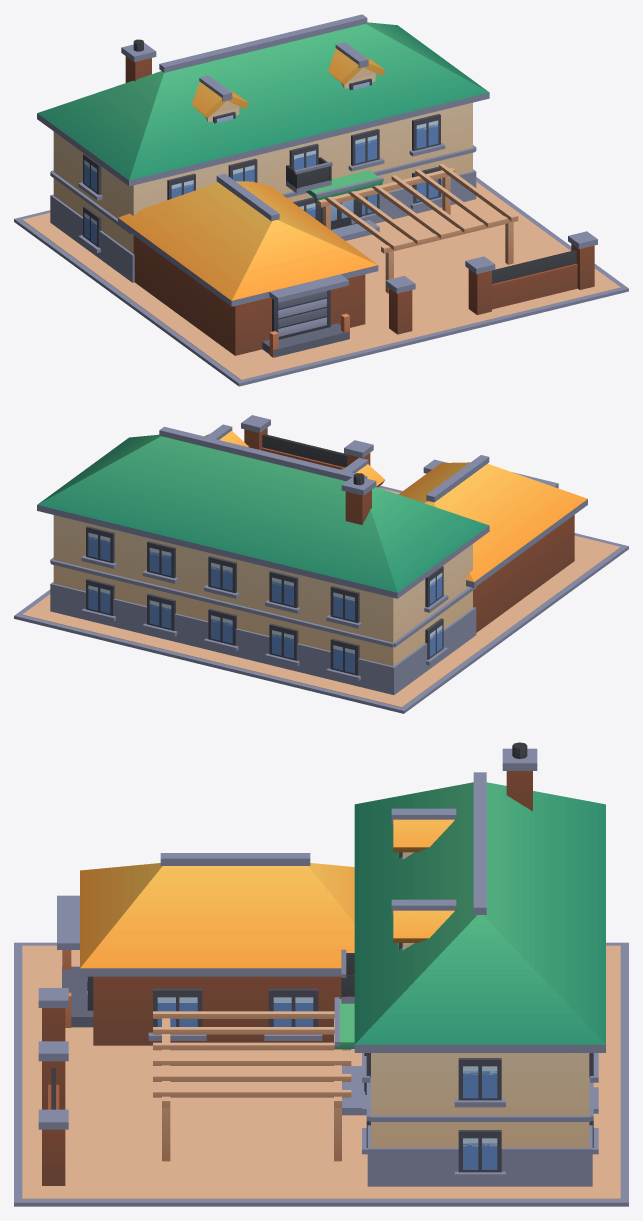
File: res_garden_estate_2x2.glb
3 views of the same model, one above another, from view 1: azimuth 30°, elevation 25°; view 2: azimuth 150°, elevation 25°; view 3: azimuth 270°, elevation 25° (orthographic). The views are drawn at different scales.
Parts seen in each view (by area): view 1: res_garden_estate_2x2; view 2: res_garden_estate_2x2; view 3: res_garden_estate_2x2.
Boxes of the visible parts, box(x1,y1,x2,y2) form: res_garden_estate_2x2: box(14, 14, 628, 386); res_garden_estate_2x2: box(14, 415, 628, 713); res_garden_estate_2x2: box(14, 742, 628, 1206).
Bounding box in the file's own units: 3.72 × 1.72 × 3.72.
Materials: 1 (1 with a texture image).
